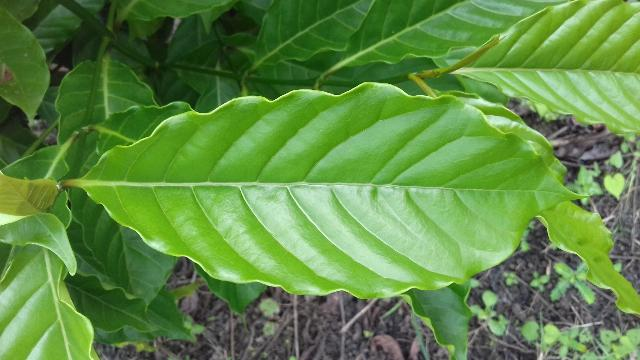healthy: (74, 78, 605, 299)
